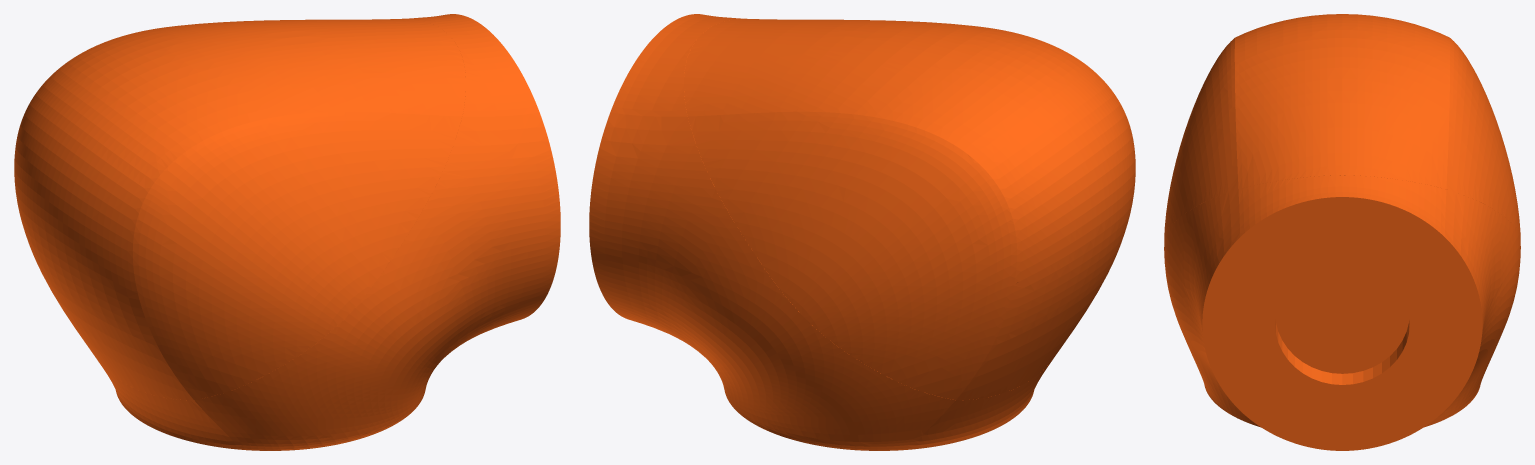
File: iiwa_link_6.dae
The picture shows the model from 3 angles, left to right: view 1: azimuth 30°, elevation 25°; view 2: azimuth 150°, elevation 25°; view 3: azimuth 270°, elevation 25°; orthographic projection. The views are drawn at different scales.
Parts seen in each view (by area): view 1: Iiwa Link 6; view 2: Iiwa Link 6; view 3: Iiwa Link 6.
Part boxes in pixels (x1,y1,x2,y2): Iiwa Link 6: (14, 14, 560, 450); Iiwa Link 6: (589, 14, 1135, 450); Iiwa Link 6: (1164, 14, 1520, 450).
Bounding box in the file's own units: 0.1674 × 0.1323 × 0.1376.
